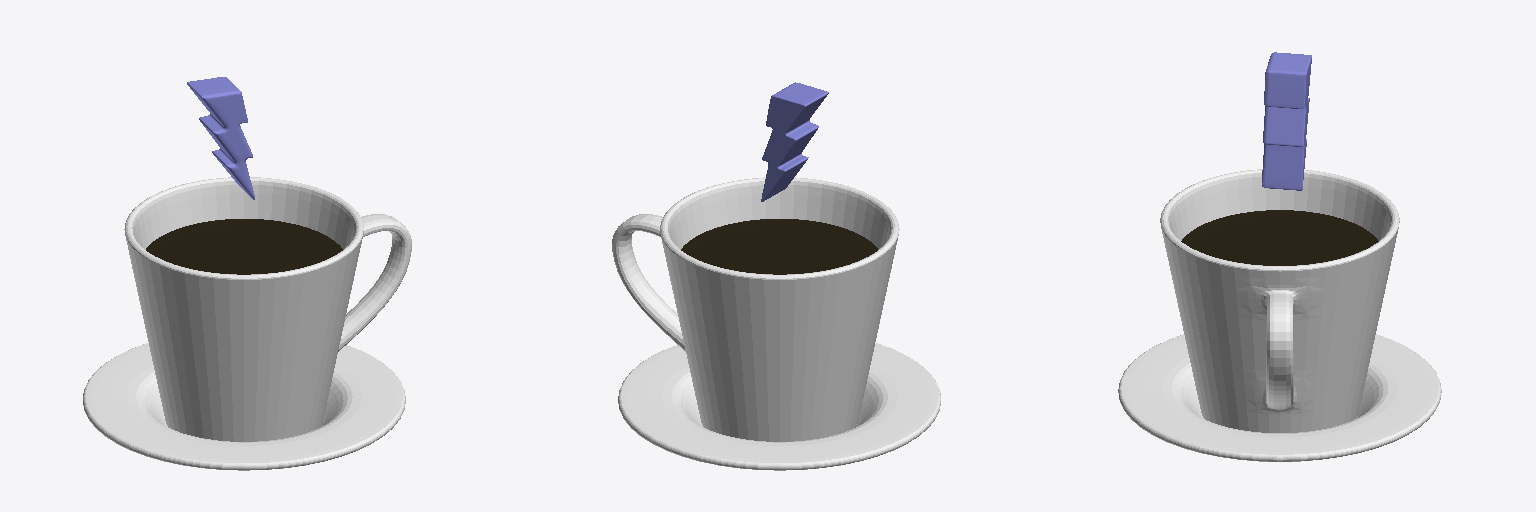
File: xicara.obj
3 renders of one model, left to right at view 1: azimuth 30°, elevation 25°; view 2: azimuth 150°, elevation 25°; view 3: azimuth 270°, elevation 25°, orthographic.
Parts seen in each view (by area): view 1: coffe_cup.2, plate, coffee, 21325_Lightning_Bolt_v1.obj; view 2: coffe_cup.2, plate, coffee, 21325_Lightning_Bolt_v1.obj; view 3: coffe_cup.2, plate, coffee, 21325_Lightning_Bolt_v1.obj.
Part boxes in pixels (bbox=[...]): coffe_cup.2: bbox=[124, 177, 411, 441]; plate: bbox=[83, 343, 405, 470]; coffee: bbox=[146, 219, 342, 274]; 21325_Lightning_Bolt_v1.obj: bbox=[187, 77, 254, 199]; coffe_cup.2: bbox=[612, 177, 899, 441]; plate: bbox=[618, 343, 940, 470]; coffee: bbox=[681, 219, 877, 274]; 21325_Lightning_Bolt_v1.obj: bbox=[761, 82, 828, 201]; coffe_cup.2: bbox=[1160, 169, 1399, 432]; plate: bbox=[1118, 334, 1441, 461]; coffee: bbox=[1181, 210, 1378, 265]; 21325_Lightning_Bolt_v1.obj: bbox=[1262, 52, 1311, 190].
Size of the model in its own units: 12.62 by 13.97 by 11.64.